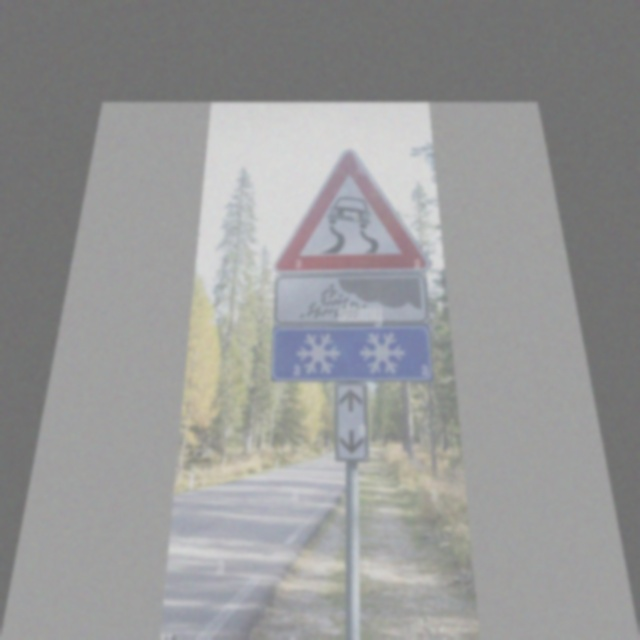Slippery_Road: (280, 151, 422, 266)
